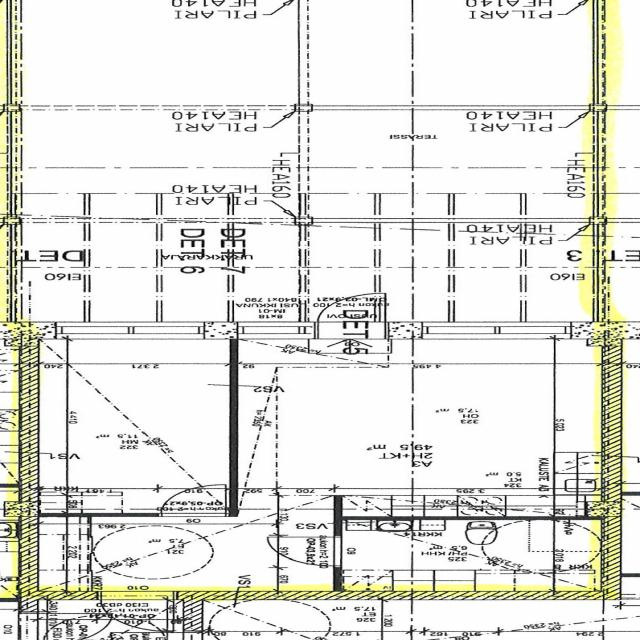door: (318, 293, 384, 339), (101, 591, 174, 631), (268, 537, 342, 566), (161, 484, 225, 516)
